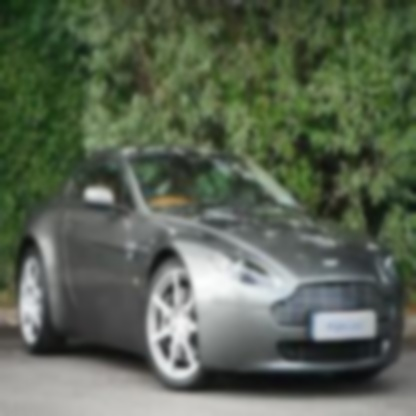Vehicle: (14, 141, 407, 391)
